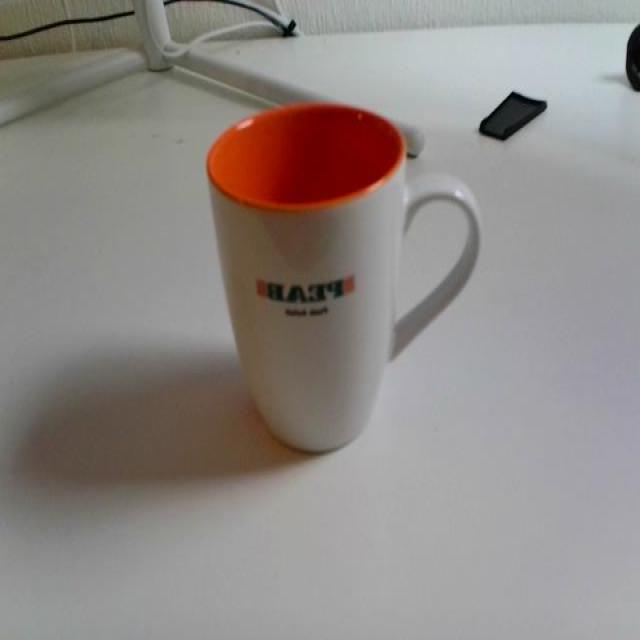cup: (202, 82, 498, 453)
